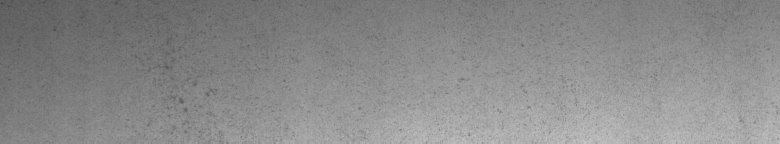ib: (158, 60, 224, 133)
